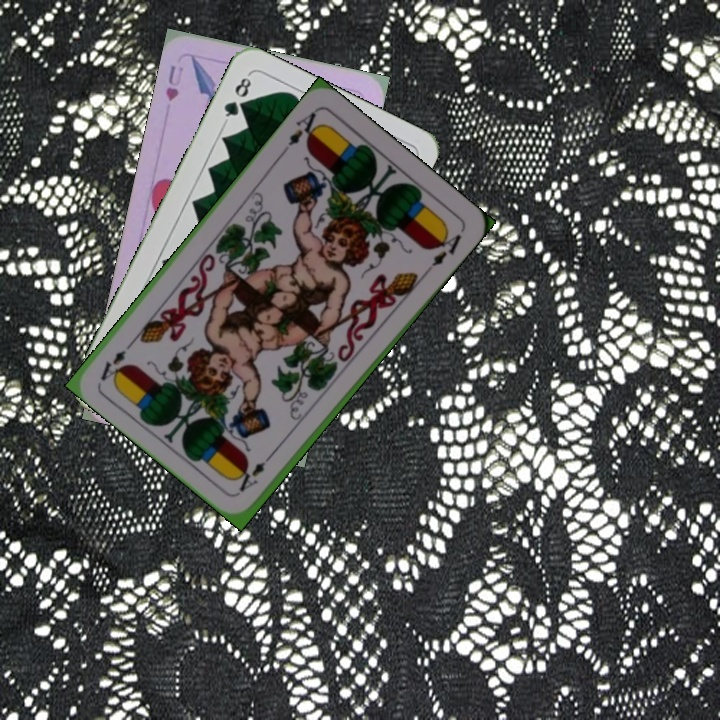EA: (278, 106, 324, 156), (235, 447, 278, 494)
G8: (220, 70, 254, 126)
HU: (161, 61, 186, 104)
